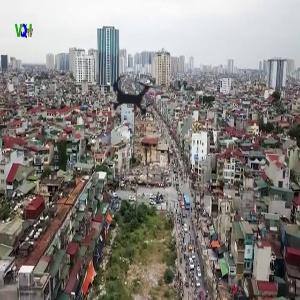drone: (91, 53, 177, 139)
